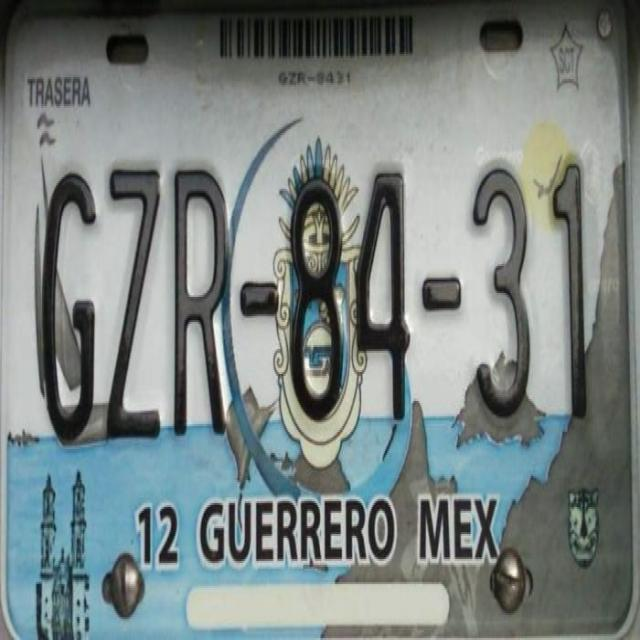placa: (24, 140, 614, 462)
